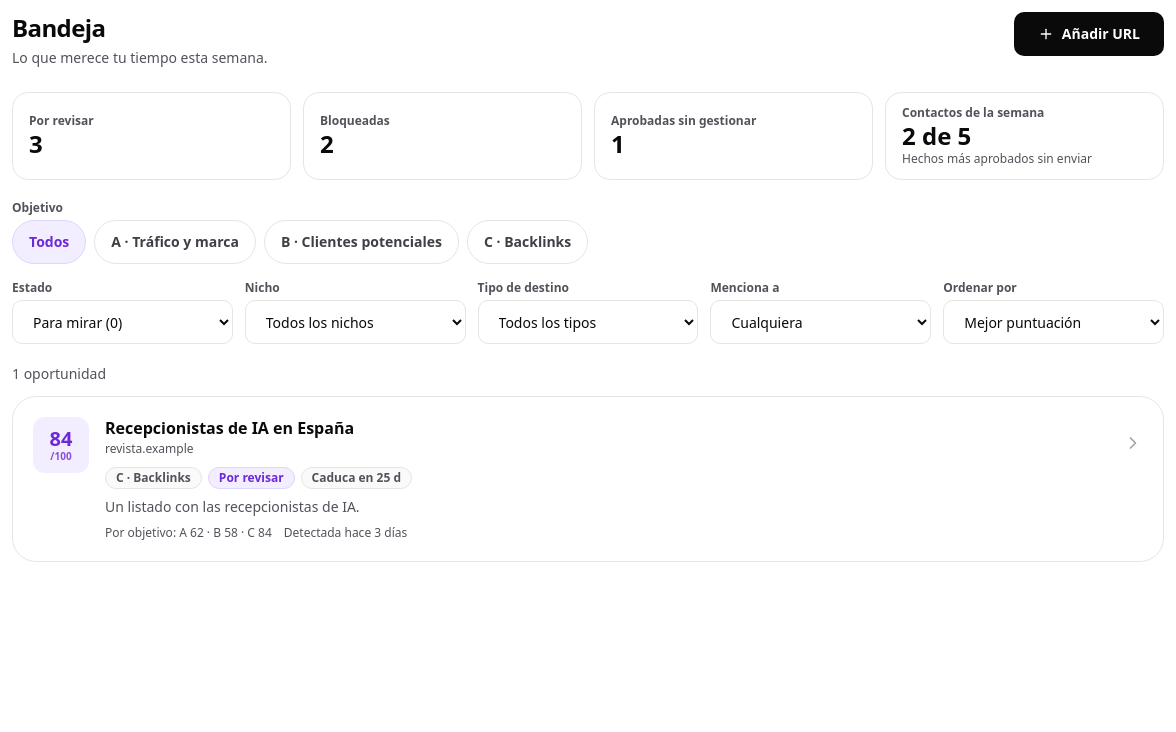
it: Bandeja · filtro «Menciona a» › cuenta como filtro activo: sale «Quitar filtros» y lo deja como estaba
Step 1. Select "HeyDiga" in the dropdown labelled "Menciona a" → (821, 322), box [710,300,931,344]
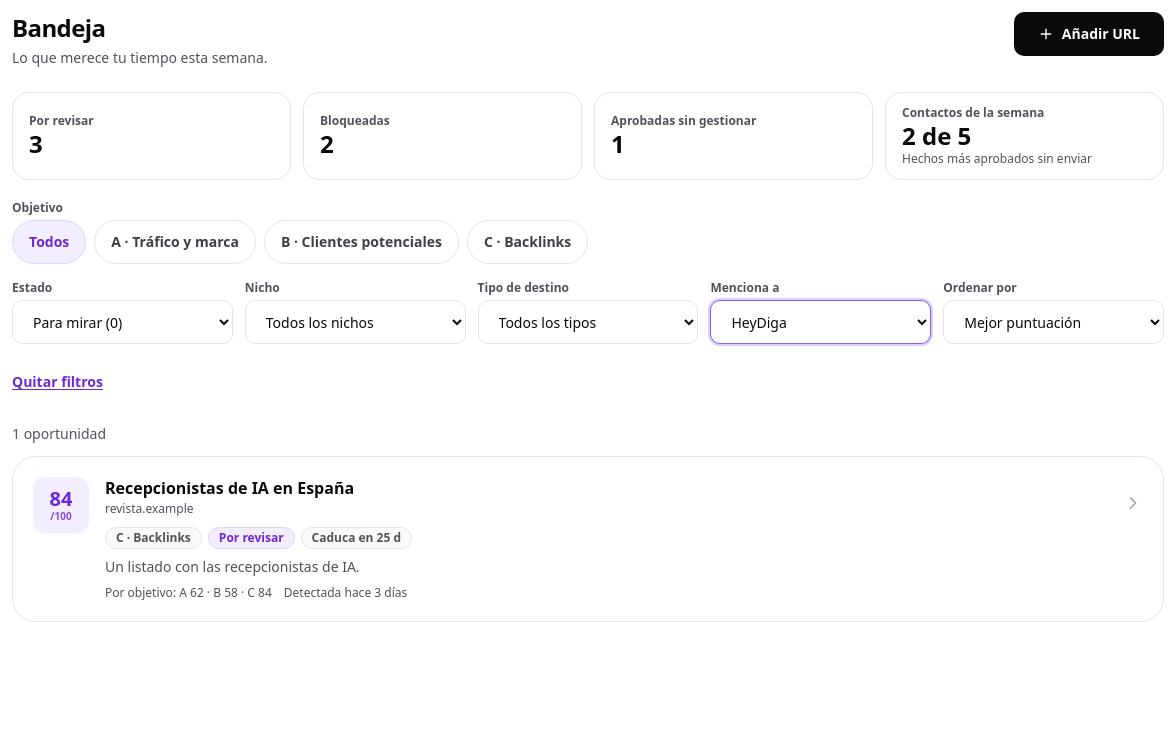
Step 2. Click the button "Quitar filtros" → click(57, 382), box [12,360,103,404]
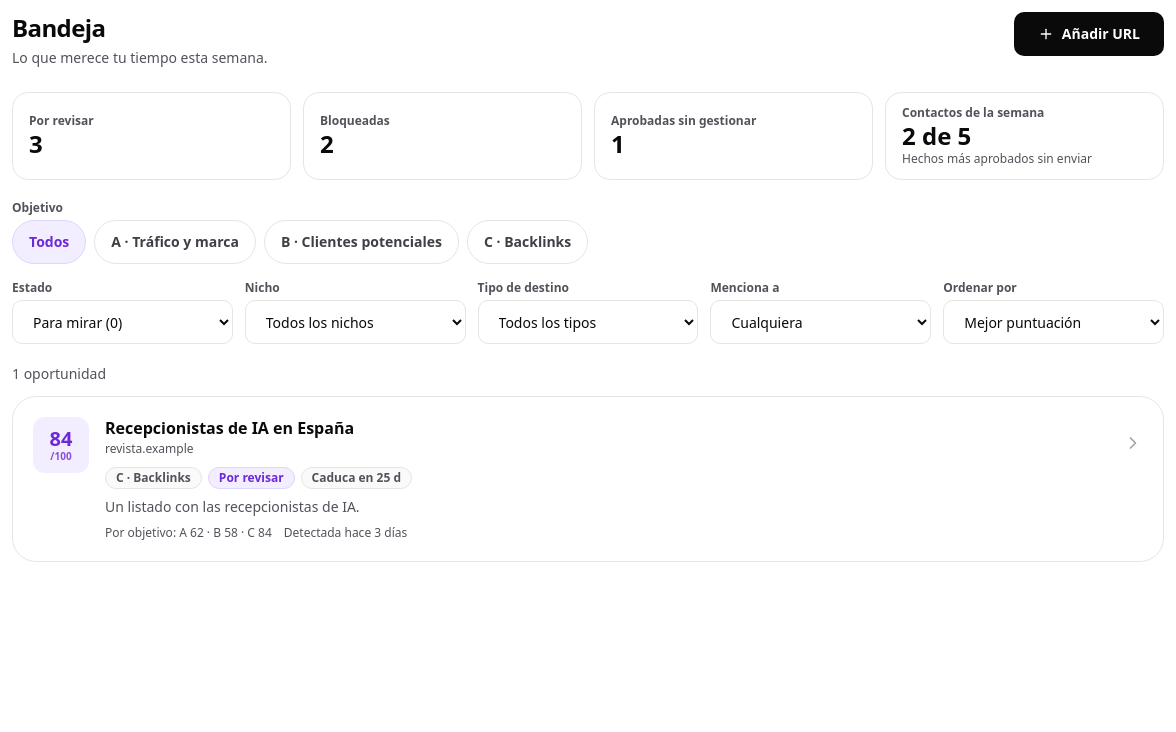
Result: the button "Quitar filtros" is gone
